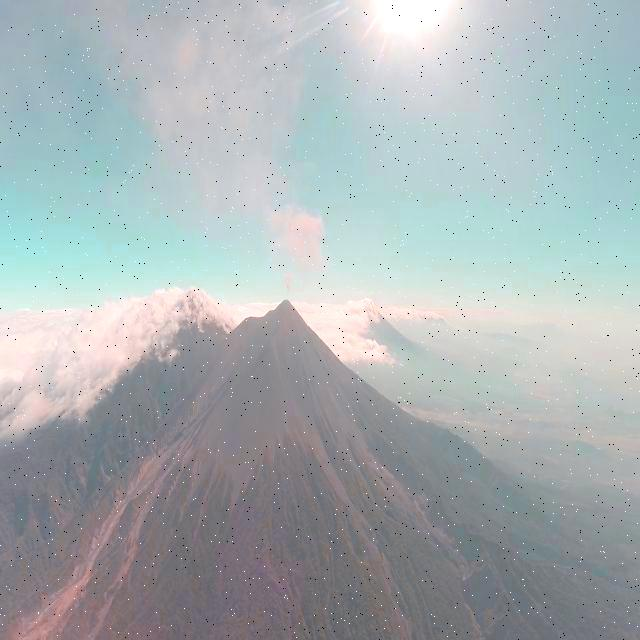Plume: (282, 270, 294, 294)
Summit: (264, 297, 300, 325)
